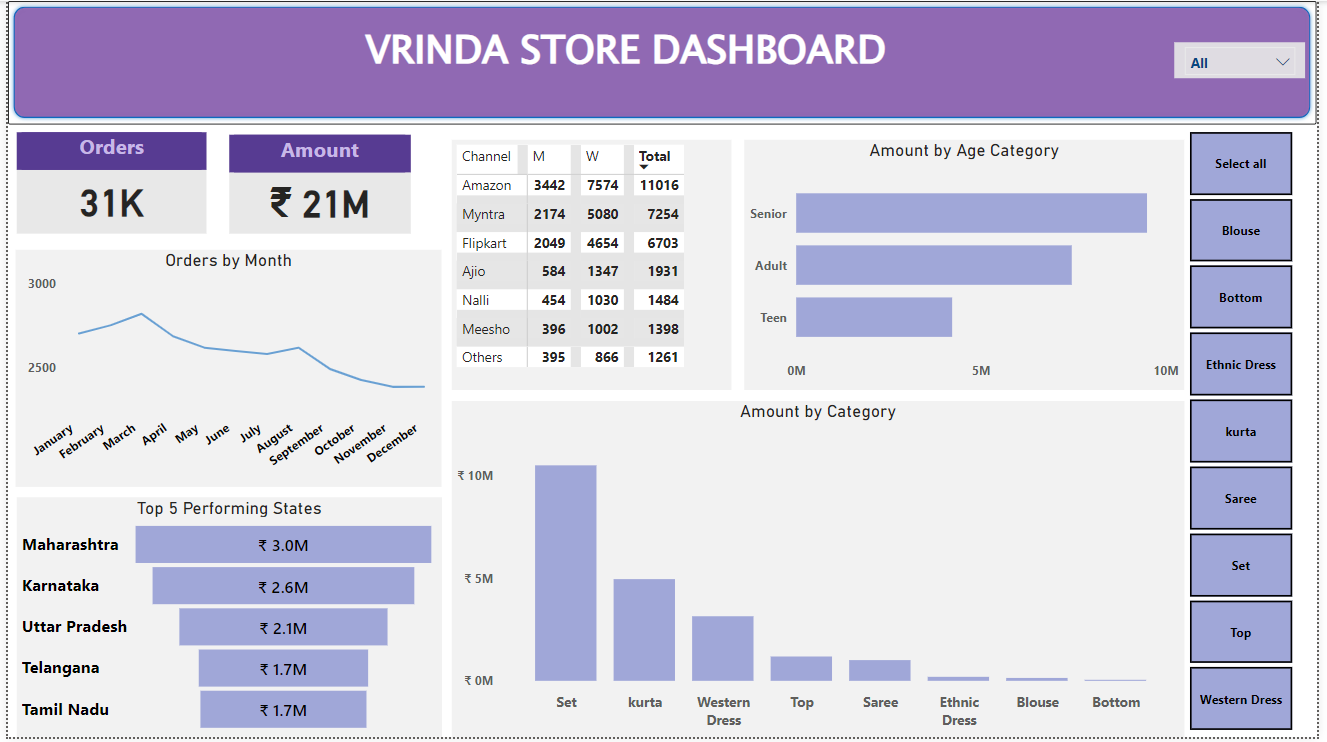

The dashboard page shown, as its layout file describes it:
{"tool":"powerbi","page":{"name":"Page 1","canvas":[1280,720],"ordinal":0},"visuals":[{"type":"shape","box":[0,0,1280.3,120.8],"z":0},{"type":"card","title":"Amount","fields":{"Values":["Sum(Vrinda Store.Amount)"]},"box":[216.4,130.8,177.3,96.6],"z":1000},{"type":"card","title":"Orders","fields":{"Values":["Vrinda Store.No of orders"]},"box":[8.6,128.4,185.9,99],"z":2000},{"type":"lineChart","title":"Orders by Month","fields":{"Category":["Vrinda Store.Month"],"Y":["Vrinda Store.No of orders"]},"box":[7.3,243.3,417,232.3],"z":3000},{"type":"pivotTable","title":"Orders by Channel ","fields":{"Rows":["Vrinda Store.Channel "],"Values":["Vrinda Store.No of orders"],"Columns":["Vrinda Store.Gender"]},"box":[434.1,135.7,273.9,244.6],"z":4000},{"type":"funnel","title":"Top 5 Performing States","fields":{"Y":["Sum(Vrinda Store.Amount)"],"Category":["Vrinda Store.ship-state"]},"box":[8.6,485.5,415.8,234.8],"z":5000},{"type":"slicer","title":"Month","fields":{"Values":["Vrinda Store.Month"]},"box":[1140.9,40.4,128.4,35.5],"z":6000},{"type":"textbox","box":[287.4,0,633.4,128.4],"z":7000},{"type":"clusteredColumnChart","title":"Amount by Category","fields":{"Category":["Vrinda Store.Category"],"Y":["Sum(Vrinda Store.Amount)"]},"box":[434.1,391.3,716.6,328.9],"z":8000},{"type":"slicer","fields":{"Values":["Vrinda Store.Category"]},"box":[1129.9,121.1,150.4,599.2],"z":9000},{"type":"clusteredBarChart","title":"Amount by Age Category","fields":{"Category":["Vrinda Store.Age Category"],"Y":["Sum(Vrinda Store.Amount)"]},"box":[720.2,135.7,430.4,244.6],"z":9001}]}

Visuals, with their boxes in screenshot pixels (x1, y1, x2, y2), scaled from the page's 1280x720 canvas onto the 1327x742 screenshot:
shape: pyautogui.locateOnScreen(0, 0, 1326, 124)
"Amount" card: pyautogui.locateOnScreen(224, 135, 408, 234)
"Orders" card: pyautogui.locateOnScreen(9, 132, 202, 234)
"Orders by Month" lineChart: pyautogui.locateOnScreen(8, 251, 440, 490)
"Orders by Channel " pivotTable: pyautogui.locateOnScreen(450, 140, 734, 392)
"Top 5 Performing States" funnel: pyautogui.locateOnScreen(9, 500, 440, 741)
"Month" slicer: pyautogui.locateOnScreen(1183, 42, 1316, 78)
textbox: pyautogui.locateOnScreen(298, 0, 955, 132)
"Amount by Category" clusteredColumnChart: pyautogui.locateOnScreen(450, 403, 1193, 741)
slicer - Vrinda Store.Category: pyautogui.locateOnScreen(1171, 125, 1326, 741)
"Amount by Age Category" clusteredBarChart: pyautogui.locateOnScreen(747, 140, 1193, 392)
